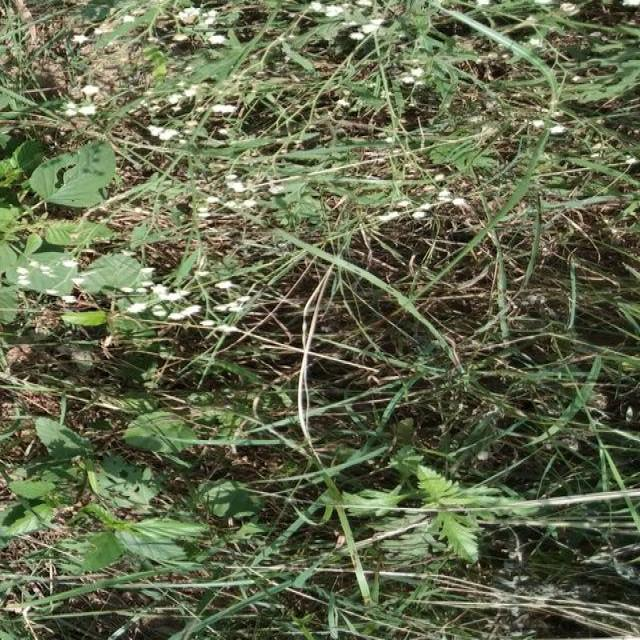weed: (0, 163, 239, 364), (19, 428, 232, 611), (366, 462, 518, 598), (301, 10, 436, 83)
